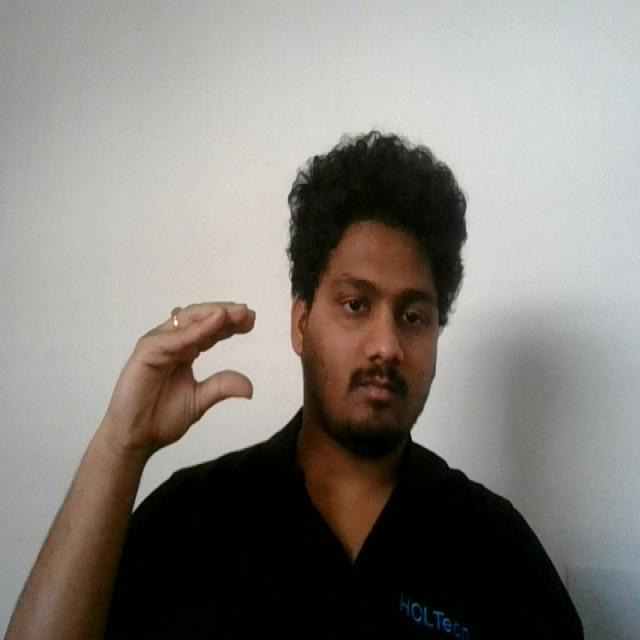No: (102, 290, 259, 464)
